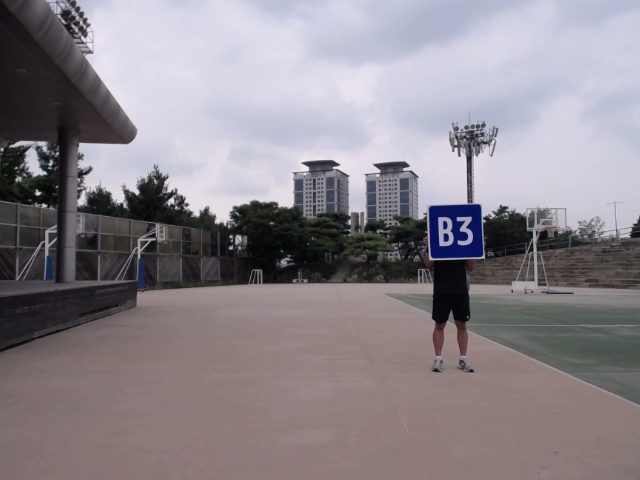delivery_b3: (426, 202, 486, 262)
